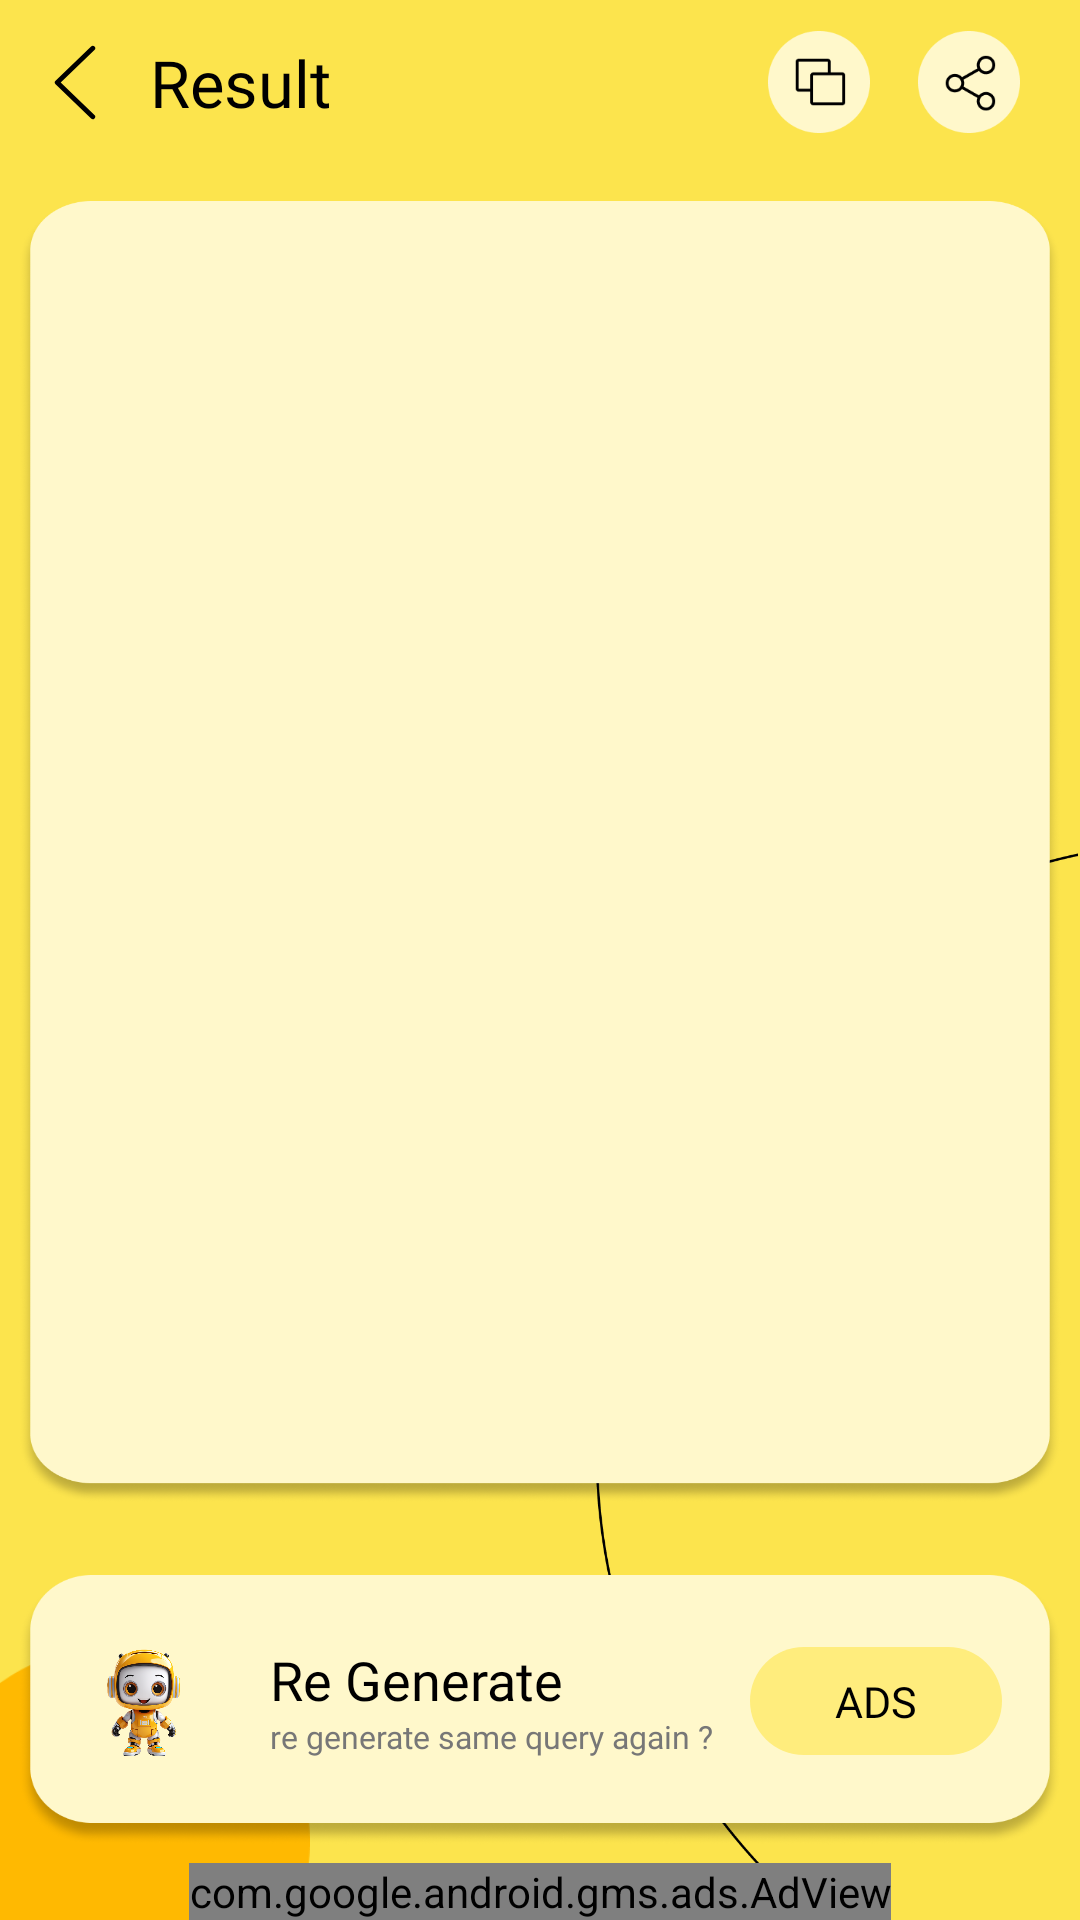

Named icons in this screenshot (1080 × 1920) and their centers, (x,y):
back: (75,82)
shar: (969,82)
